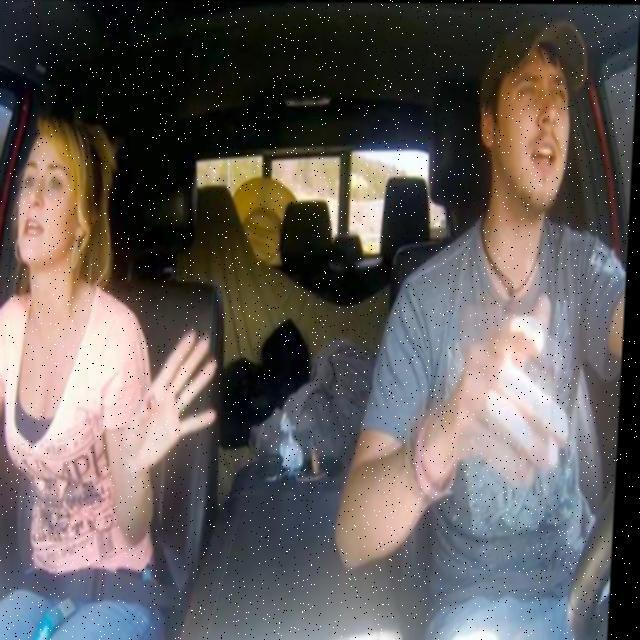noSeatbelt: (402, 188, 614, 520), (0, 278, 156, 540)
